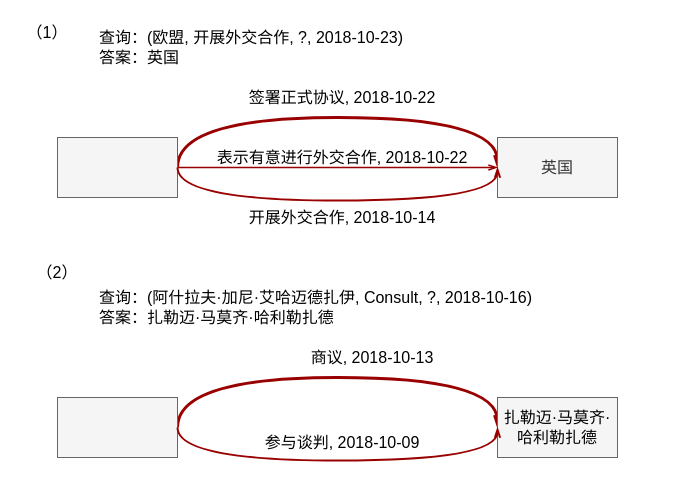
The diagram is 674 pixels wide and 489 high, and some of its shapes have lost their labels. The box of each missing label's shape, as (x1, y1, x2, y2) in pixels:
欧盟: (56, 136, 178, 198)
阿什拉夫·加尼·艾哈迈德扎伊: (56, 396, 178, 458)
